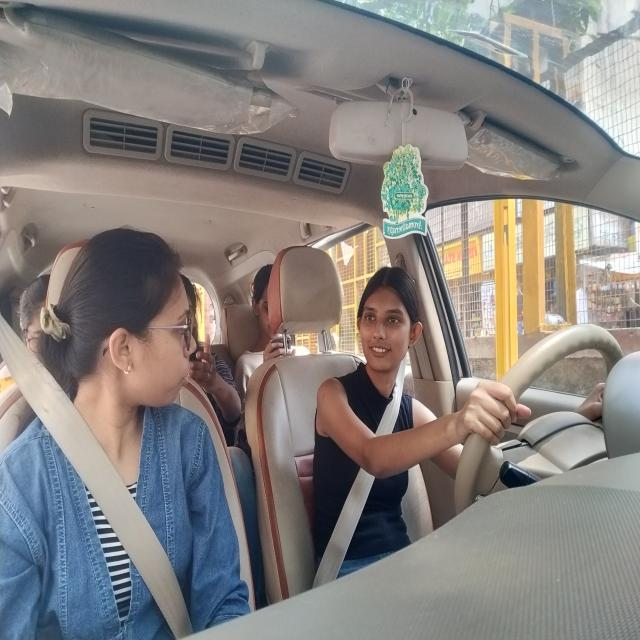LeftRight: (345, 261, 429, 386)
person: (80, 214, 199, 404)
talking: (359, 334, 399, 362)
